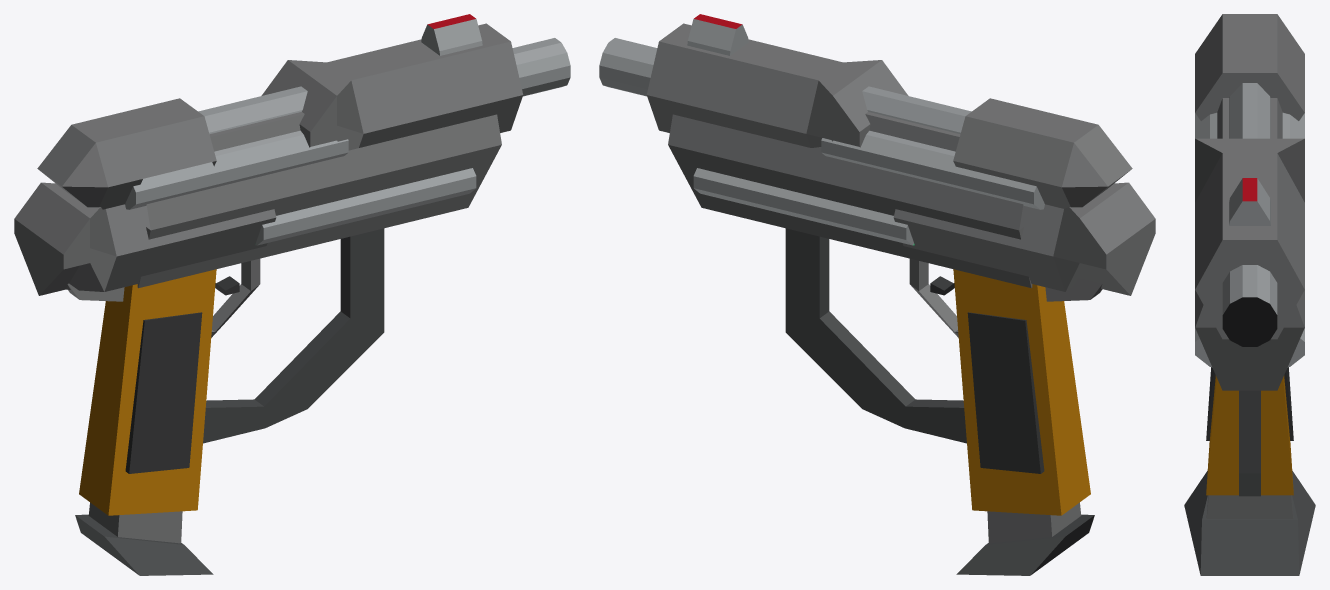
Rendered from SCIFIPistol.fbx.
3 views of the same model, side by side, from view 1: azimuth 30°, elevation 25°; view 2: azimuth 150°, elevation 25°; view 3: azimuth 270°, elevation 25° (orthographic). The views are drawn at different scales.
Parts seen in each view (by area): view 1: cuboid, cuboid_9, cuboid_1, cuboid_6, cuboid_3, cuboid_7, cuboid_8, tube_2, tube_3, cuboid_10, tube_1, tube (+3 smaller); view 2: cuboid, cuboid_9, cuboid_1, cuboid_6, cuboid_7, cuboid_3, cuboid_8, tube_2, tube_3, cuboid_10, tube_1, tube (+4 smaller); view 3: cuboid_9, cuboid_7, cuboid_10, cuboid_1, cuboid, tube, cuboid_3, tube_1, cuboid_2, tube_4, tube_2, cuboid_8 (+1 smaller).
Part boxes in pixels (x1,y1,x2,y2): cuboid: (137, 112, 501, 288); cuboid_9: (261, 23, 523, 150); cuboid_1: (79, 269, 216, 515); cuboid_6: (14, 182, 276, 295); cuboid_3: (203, 228, 384, 443); cuboid_7: (37, 98, 216, 209); cuboid_8: (125, 312, 202, 473); tube_2: (125, 130, 348, 209); tube_3: (255, 168, 476, 245); cuboid_10: (75, 514, 213, 575); tube_1: (198, 86, 307, 134); tube: (512, 38, 570, 96); cuboid: (668, 112, 1032, 288); cuboid_9: (646, 23, 908, 147); cuboid_1: (953, 269, 1090, 515); cuboid_6: (893, 182, 1155, 295); cuboid_7: (953, 98, 1132, 208); cuboid_3: (785, 228, 966, 443); cuboid_8: (967, 312, 1044, 473); tube_2: (821, 130, 1044, 209); tube_3: (693, 168, 914, 245); cuboid_10: (956, 514, 1094, 575); tube_1: (862, 86, 971, 134); tube: (599, 38, 657, 96); cuboid_9: (1195, 138, 1304, 339); cuboid_7: (1195, 14, 1304, 120); cuboid_10: (1184, 471, 1315, 575); cuboid_1: (1206, 375, 1293, 495); cuboid: (1195, 98, 1304, 390); tube: (1222, 265, 1277, 346); cuboid_3: (1239, 390, 1260, 496); tube_1: (1229, 83, 1270, 138); cuboid_2: (1206, 495, 1293, 518); tube_4: (1229, 178, 1270, 225); tube_2: (1195, 112, 1304, 138); cuboid_8: (1206, 367, 1293, 440).
Size of the model in its own units: 38.12 by 33.2 by 7.5.
Materials: 1 (1 with a texture image).
